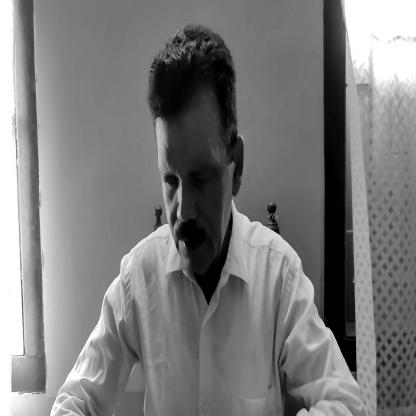Normal: (151, 25, 242, 278)
